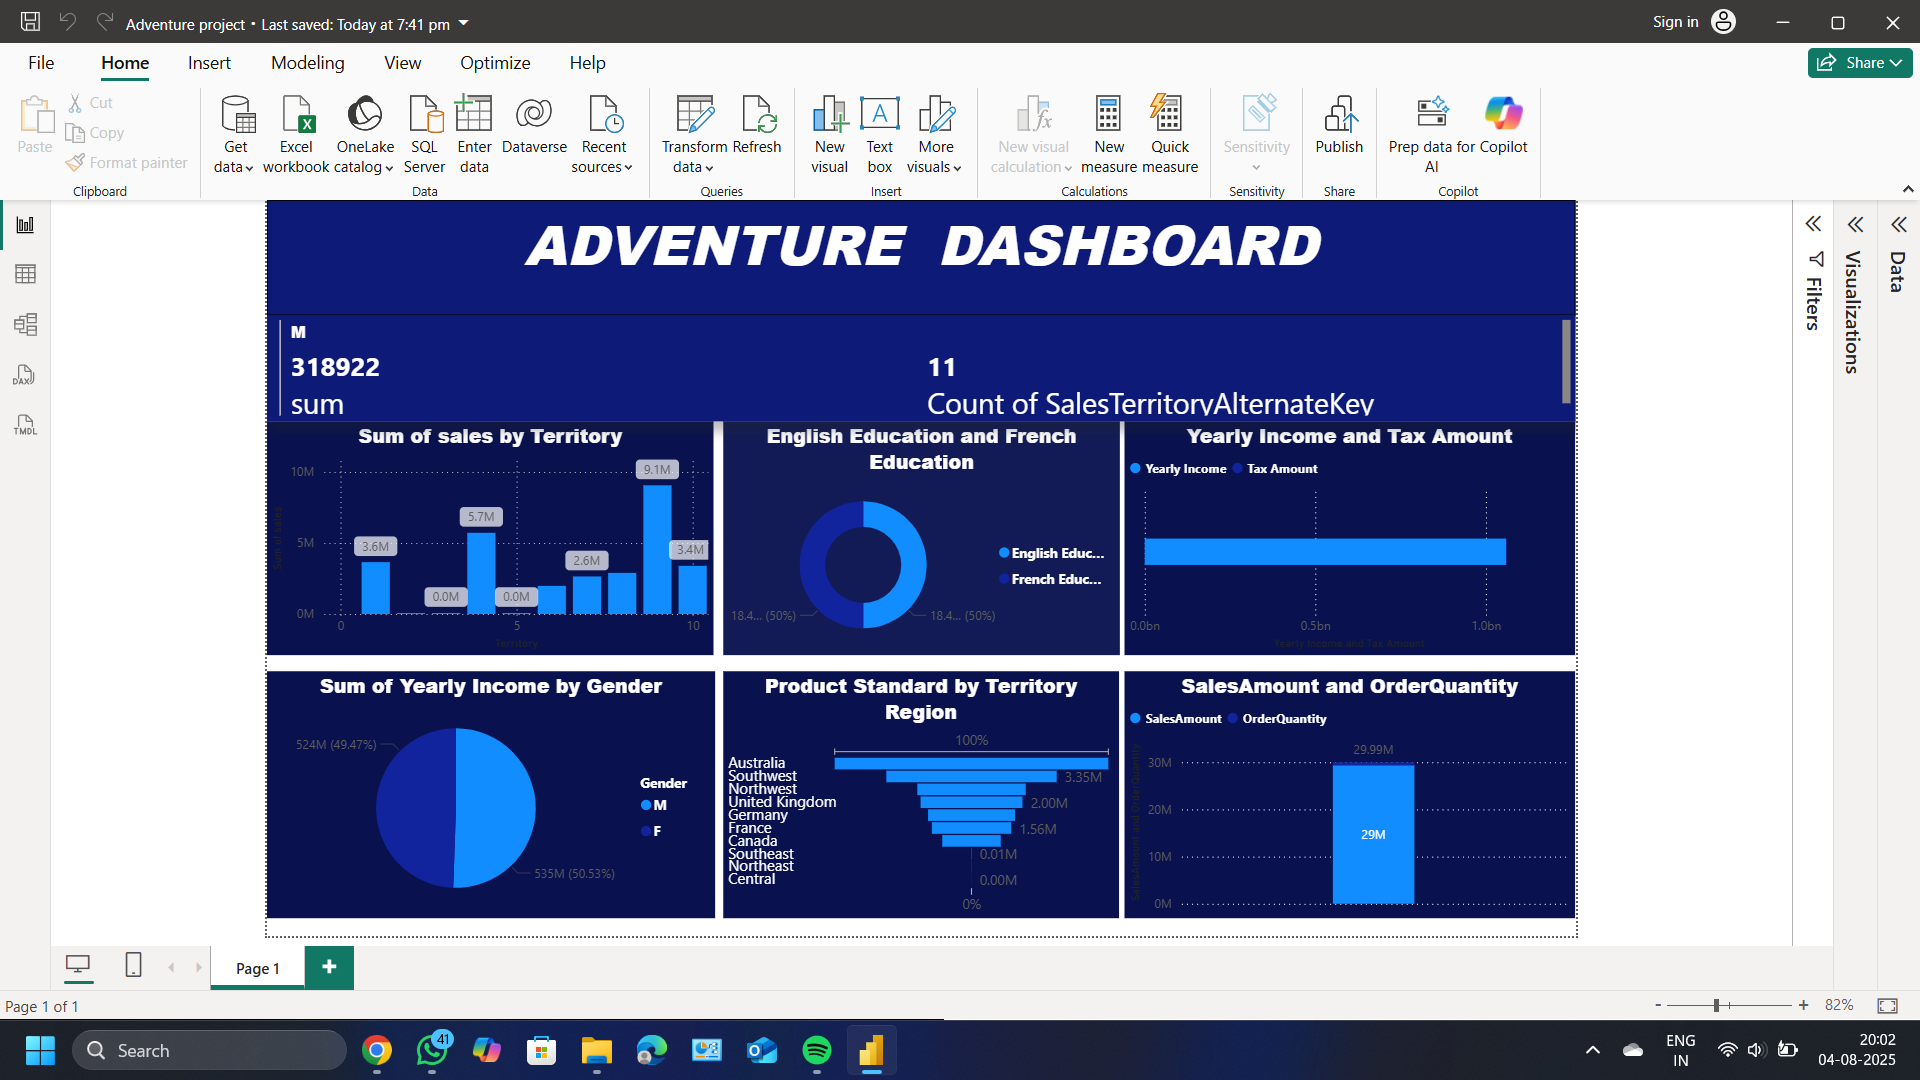

What the dashboard file says about the page in this screenshot:
{"tool":"powerbi","page":{"name":"Page 1","canvas":[1280,720],"ordinal":0},"visuals":[{"type":"textbox","box":[0,0,1279.8,113.1],"z":0},{"type":"lineClusteredColumnComboChart","fields":{"Category":["Table2.SalesTerritoryKey"],"Y":["Sum(Table2.SalesAmount)"]},"box":[0,216.7,436.9,228.6],"z":1000},{"type":"donutChart","fields":{"Y":["CountNonNull(DimCustomer.EnglishEducation)","CountNonNull(DimCustomer.FrenchEducation)"]},"box":[446.4,216.7,388.1,228.6],"z":2000},{"type":"pieChart","fields":{"Category":["DimCustomer.Gender"],"Y":["Sum(DimCustomer.YearlyIncome)"]},"box":[0,460.7,438.1,241.7],"z":3000},{"type":"funnel","fields":{"Category":["DimSalesTerritory.SalesTerritoryRegion"],"Y":["Sum(FactInternetSales.ProductStandardCost)"]},"box":[446.4,460.7,386.9,241.7],"z":4000},{"type":"columnChart","fields":{"Y":["Sum(FactInternetSales.SalesAmount)","Sum(Table2.OrderQuantity)"]},"box":[839.3,460.7,440.5,241.7],"z":5000},{"type":"barChart","fields":{"Y":["Sum(DimCustomer.YearlyIncome)","Sum(Table2.TaxAmt)"]},"box":[839.3,216.7,440.5,228.6],"z":6000},{"type":"multiRowCard","fields":{"Values":["Table2.sum","CountNonNull(DimSalesTerritory.SalesTerritoryAlternateKey)","DimCustomer.Gender"]},"box":[0,112.5,1280,103.8],"z":7000}]}

Visuals, with their boxes on the page's 1280x720 design canvas (x1, y1, x2, y2). These are canvas units, not pixel positions in the 1920x1080 screenshot, which may show the page scaled, cropped or inside an application window:
textbox: l=0, t=0, r=1280, b=113
lineClusteredColumnComboChart - Table2.SalesTerritoryKey x Sum(Table2.SalesAmount): l=0, t=217, r=437, b=445
donutChart - CountNonNull(DimCustomer.EnglishEducation) x CountNonNull(DimCustomer.FrenchEducation): l=446, t=217, r=834, b=445
pieChart - DimCustomer.Gender x Sum(DimCustomer.YearlyIncome): l=0, t=461, r=438, b=702
funnel - DimSalesTerritory.SalesTerritoryRegion x Sum(FactInternetSales.ProductStandardCost): l=446, t=461, r=833, b=702
columnChart - Sum(FactInternetSales.SalesAmount) x Sum(Table2.OrderQuantity): l=839, t=461, r=1280, b=702
barChart - Sum(DimCustomer.YearlyIncome) x Sum(Table2.TaxAmt): l=839, t=217, r=1280, b=445
multiRowCard - Table2.sum x CountNonNull(DimSalesTerritory.SalesTerritoryAlternateKey): l=0, t=112, r=1280, b=216
